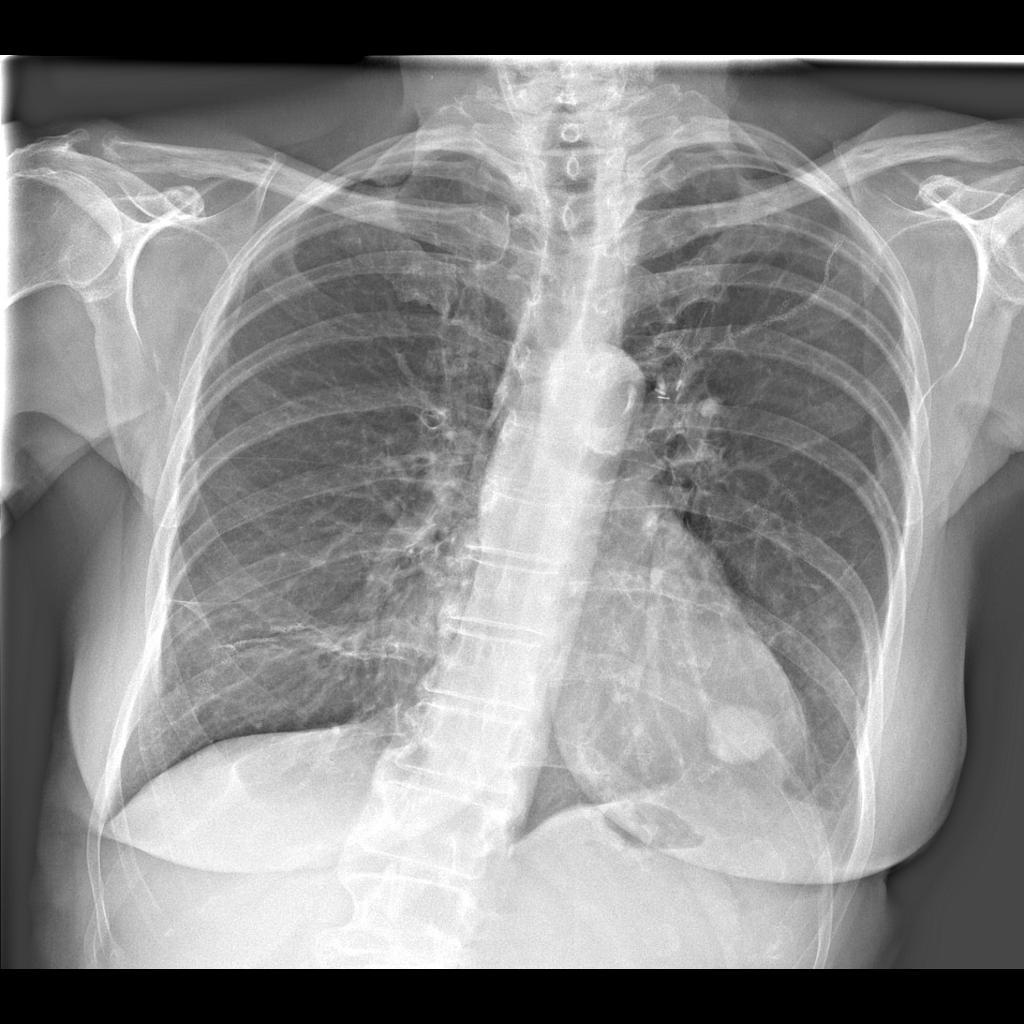Nodule: (703, 693, 771, 784)
